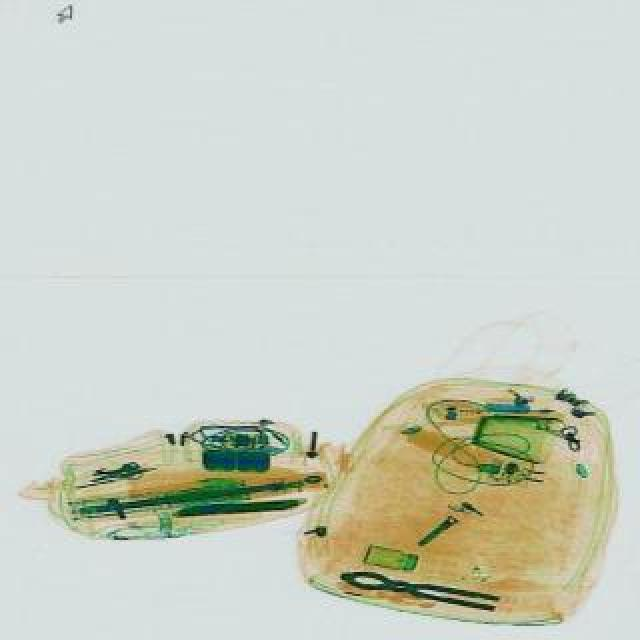wrench: (344, 566, 504, 614)
